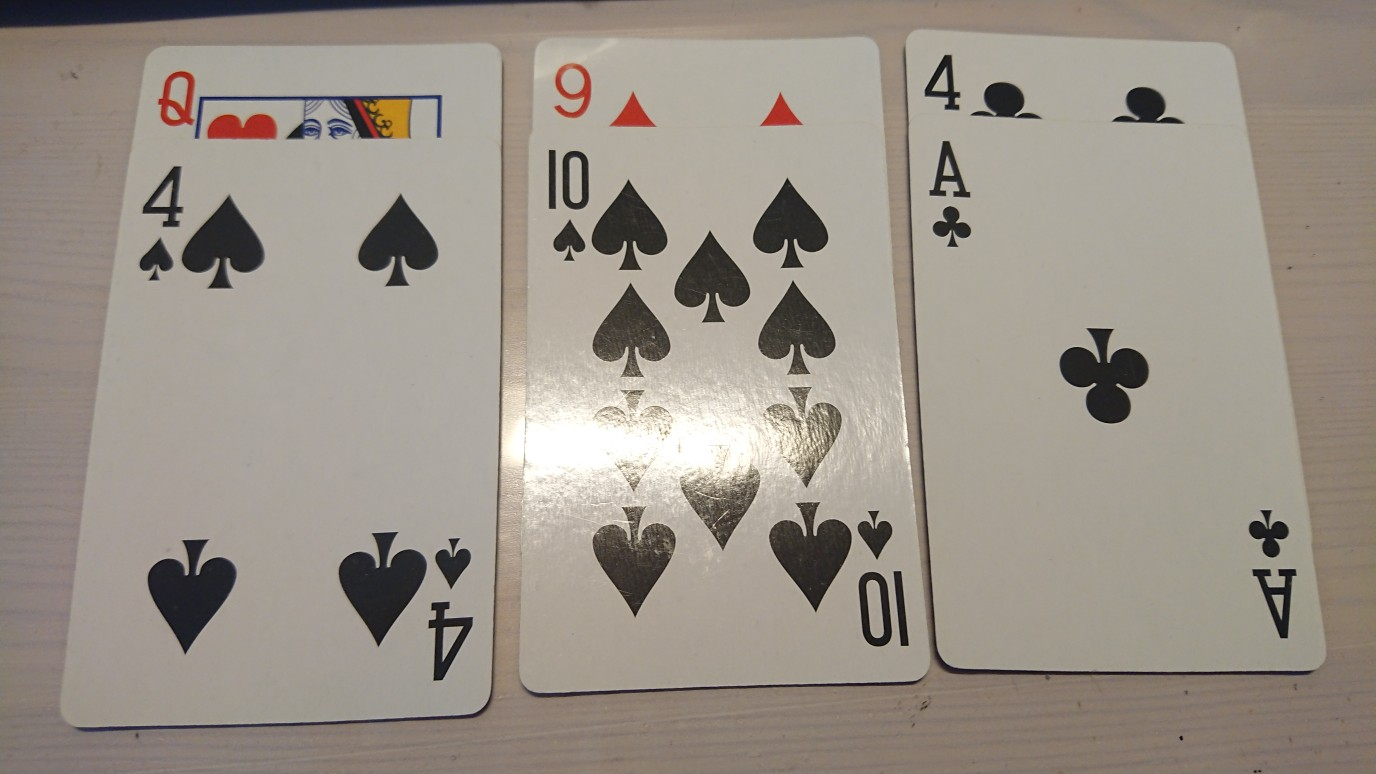10S: (541, 145, 591, 266)
4S: (136, 163, 188, 285)
AC: (925, 135, 978, 253)
